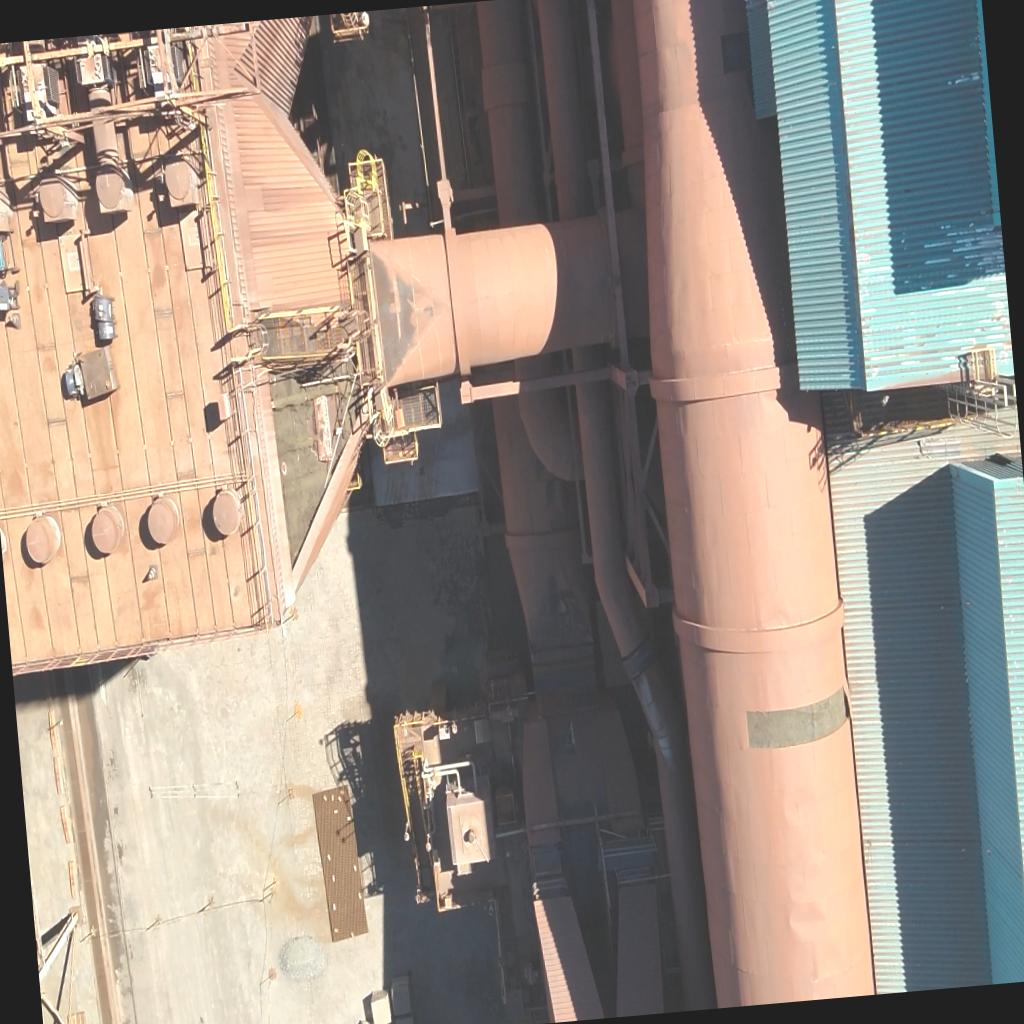Failures: (260, 353, 364, 550), (742, 690, 853, 752)
